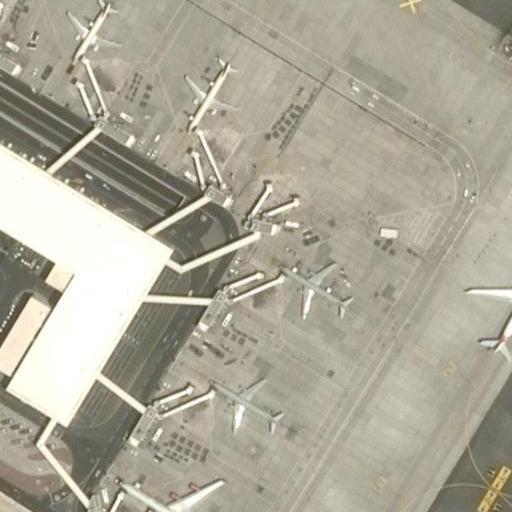Aircraft: (117, 470, 245, 512), (208, 369, 289, 433), (280, 254, 355, 319), (181, 52, 240, 128), (61, 0, 121, 64), (468, 275, 512, 362)
